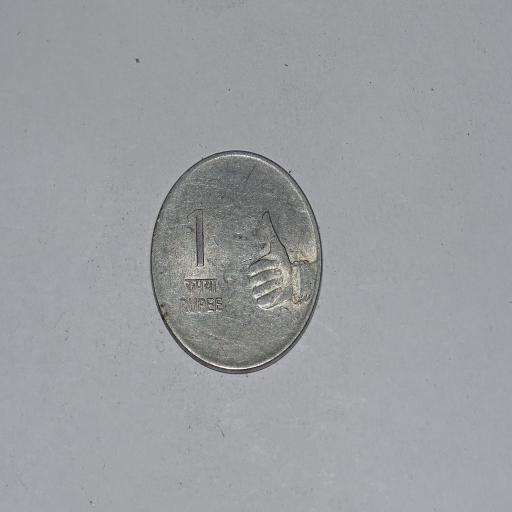rupee1: (148, 150, 323, 374)
